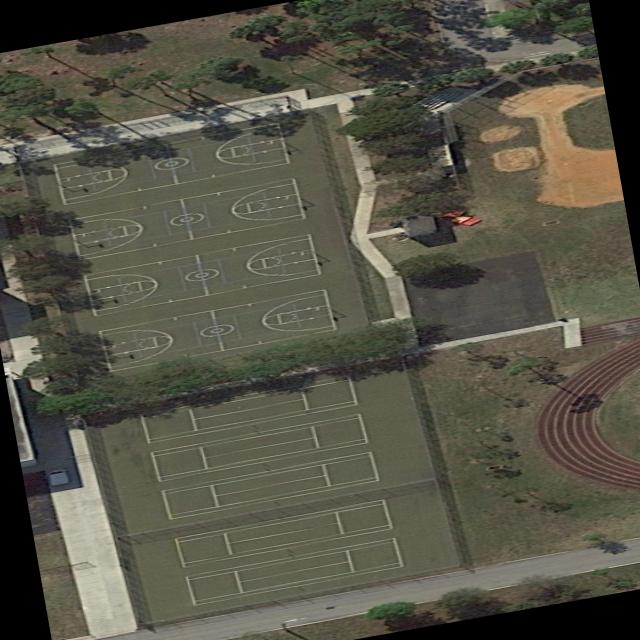large-vehicle: (45, 467, 69, 486)
